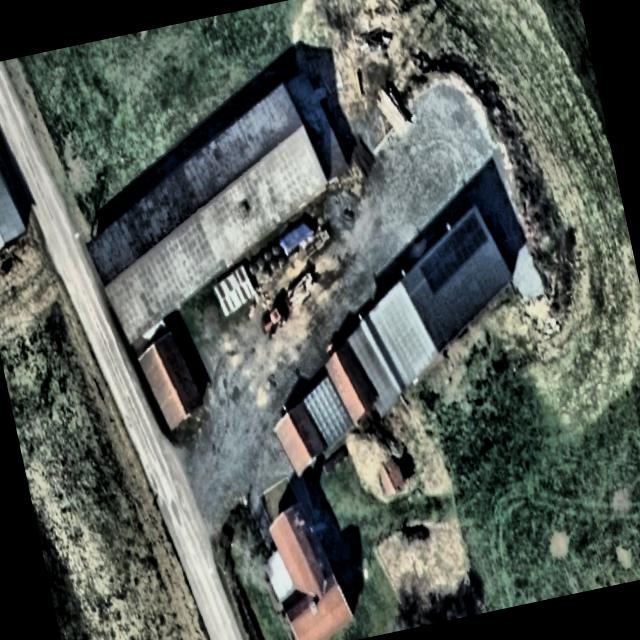roof_pv: (444, 212, 494, 274), (415, 238, 460, 298)
